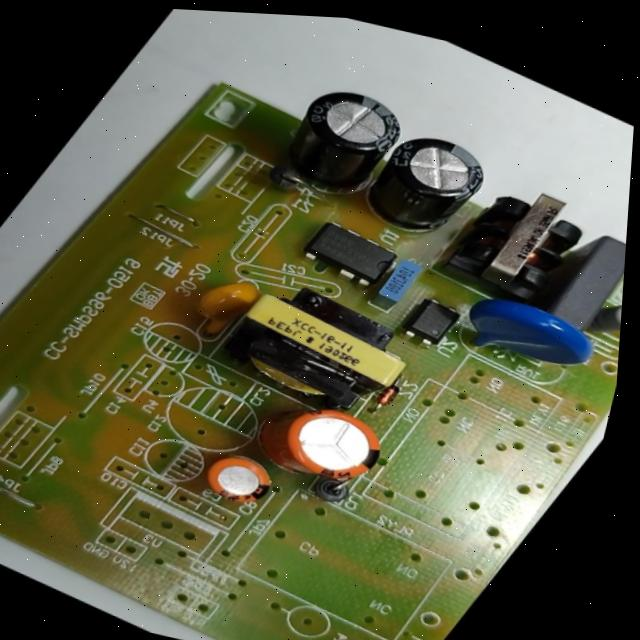Cap1: (241, 383, 404, 508)
Cap2: (192, 441, 288, 518)
Cap3: (342, 112, 508, 258)
Cap4: (257, 66, 422, 212), (589, 289, 623, 343)
MOSFET: (293, 212, 411, 297)
Mov: (440, 278, 616, 395)
Transformer: (202, 263, 431, 433), (431, 162, 612, 319)
